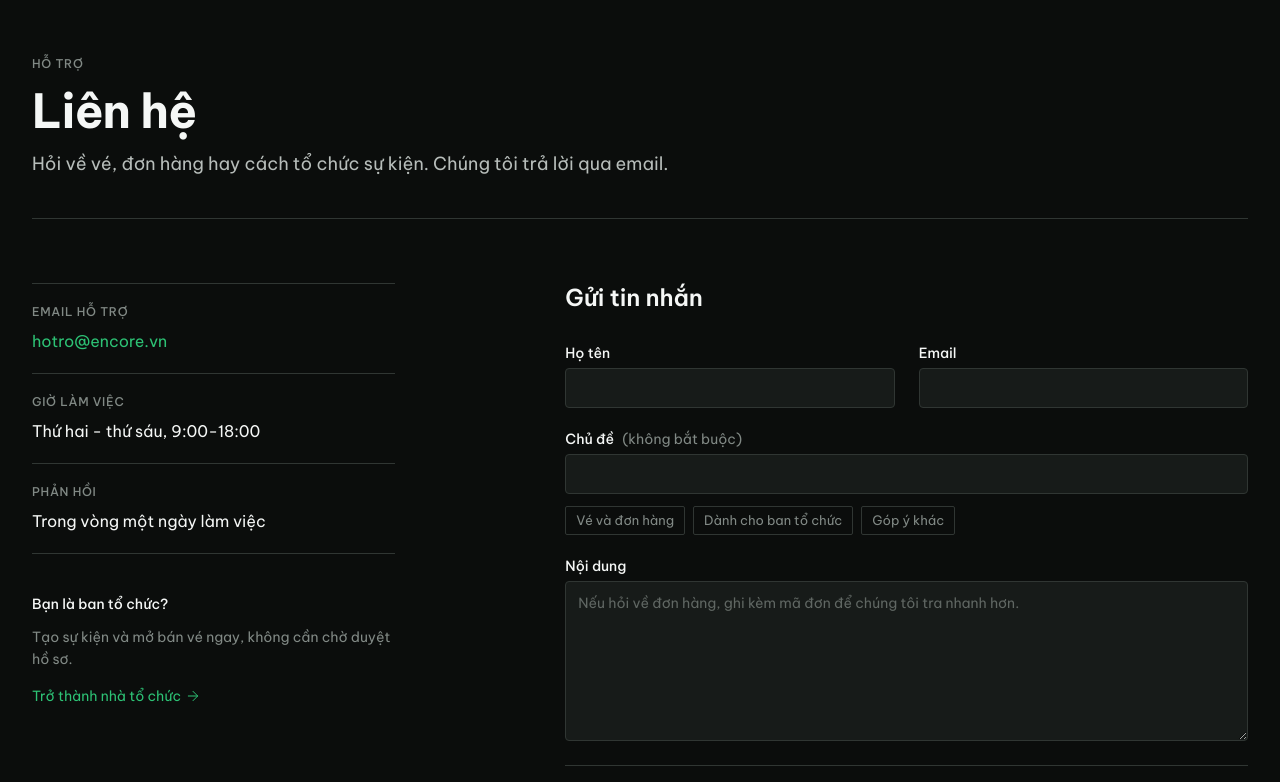
ContactPage › đổ lỗi field từ BE vào form
Type "Lê Thu Hà" into the field labelled "Họ tên" at [730, 388], box [565, 368, 895, 408]
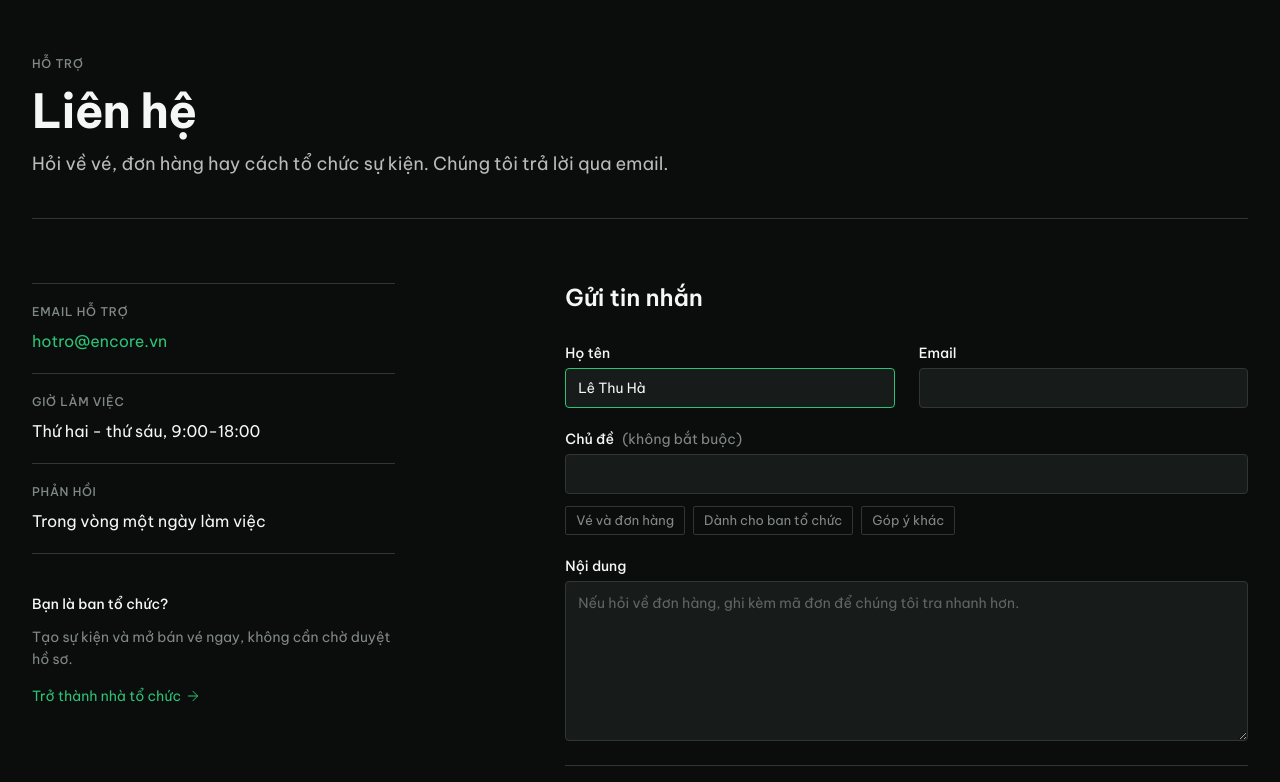
Type "x@example.com" into the field labelled "Email" at [1083, 388], box [919, 368, 1248, 408]
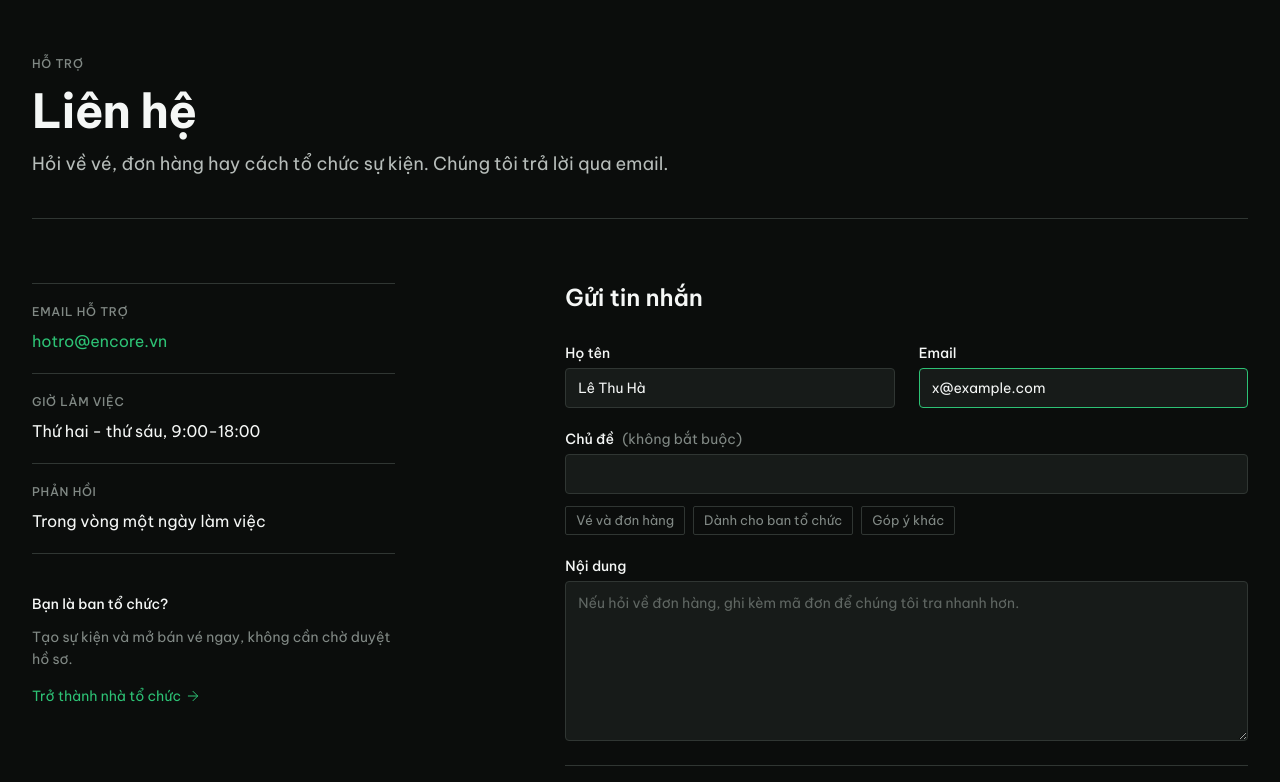
Type "Nội dung đủ dài để gửi." into the text box labelled "Nội dung" at [907, 661], box [565, 581, 1248, 741]
(page scrolled)
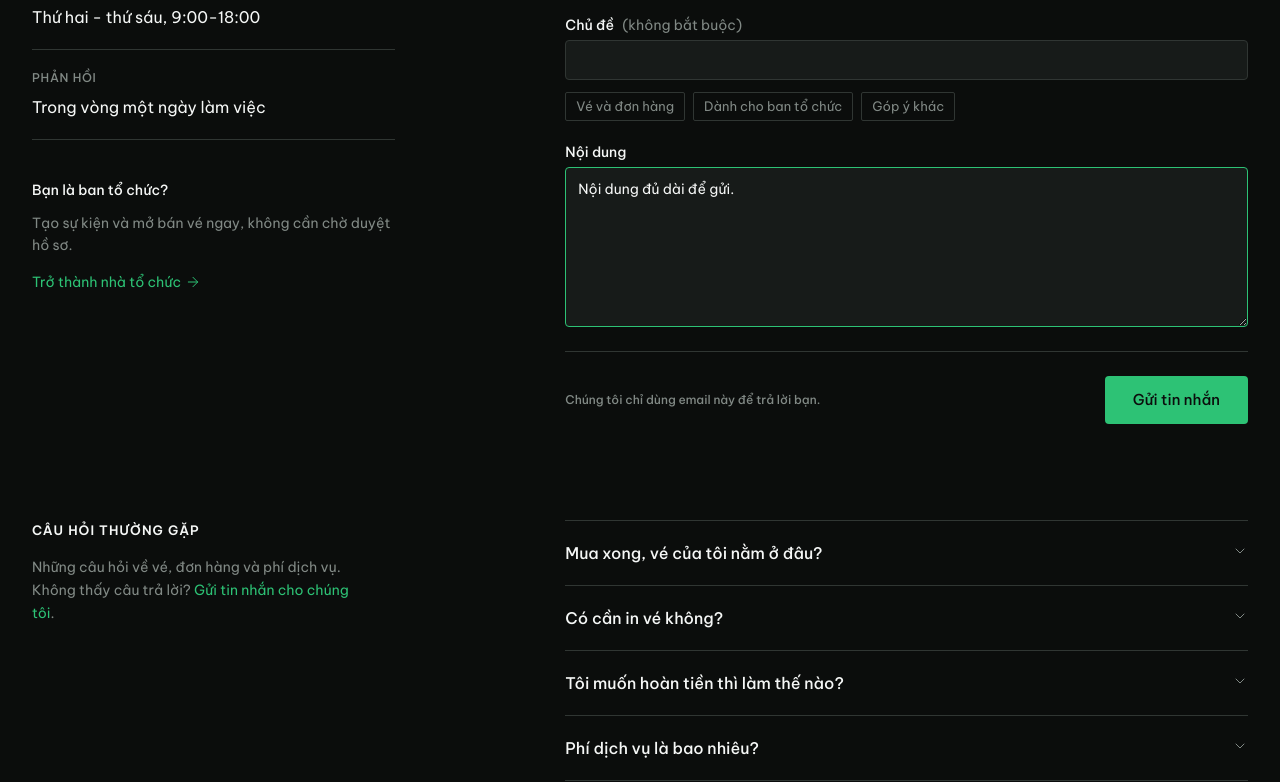
Click the button "Gửi tin nhắn" at [1176, 400], box [1105, 376, 1248, 424]
(page scrolled)
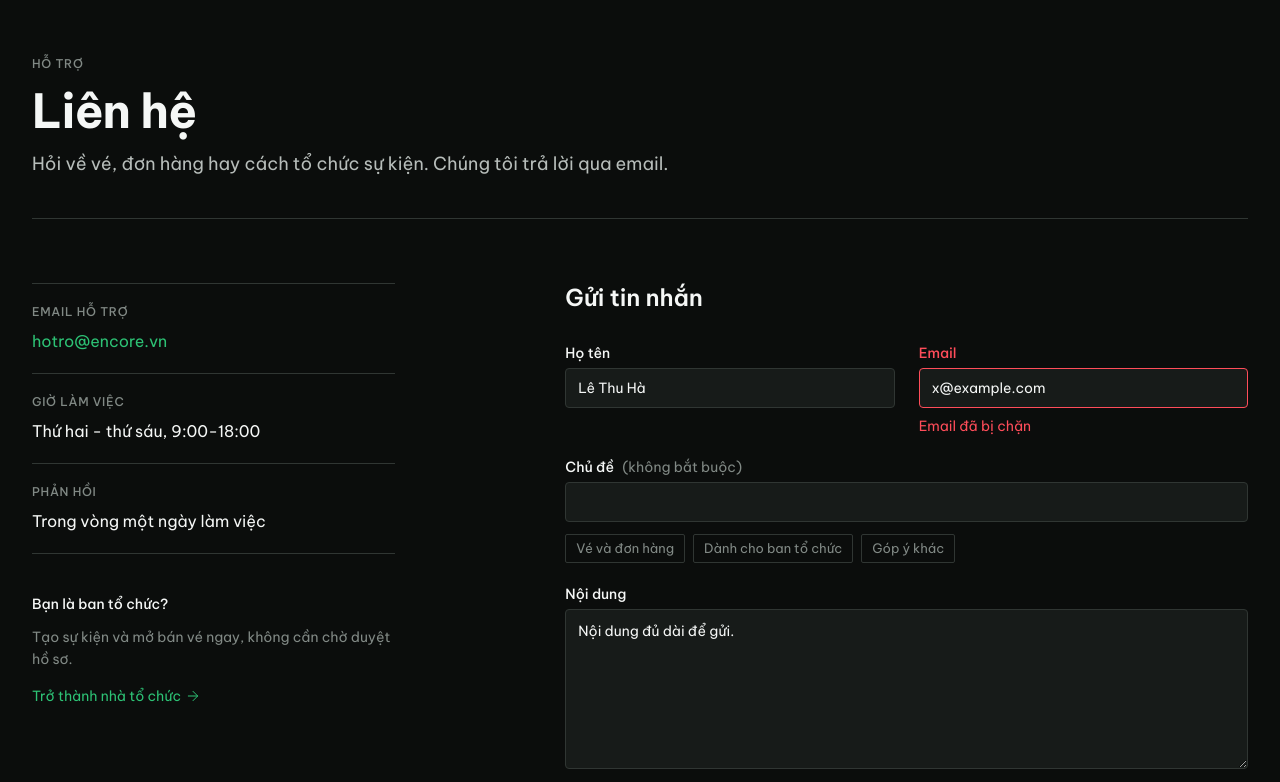
Expected: the text "Email đã bị chặn" is shown, [919, 417, 1031, 435]
